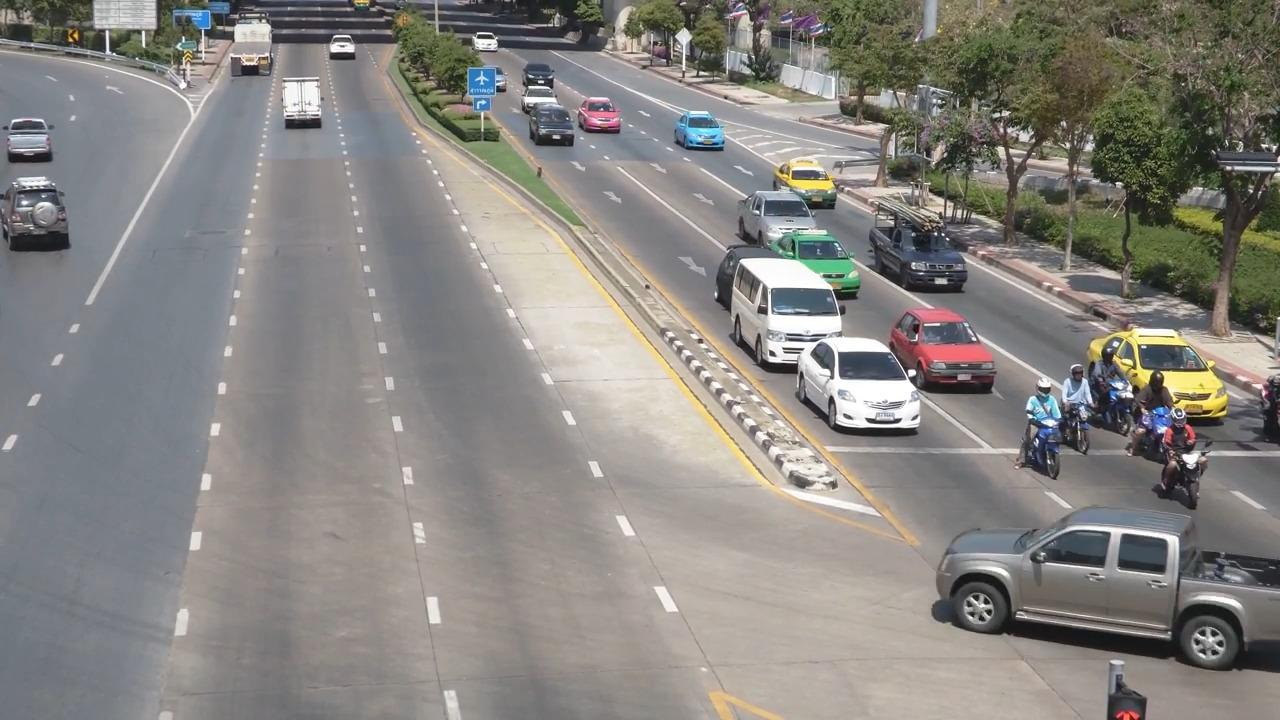CAR: (925, 495, 1280, 703), (801, 332, 939, 439), (1100, 310, 1227, 421), (734, 252, 848, 372), (860, 193, 970, 296), (885, 290, 996, 389), (770, 221, 871, 298), (0, 177, 81, 262), (733, 184, 822, 256), (273, 65, 336, 142), (764, 151, 843, 206), (0, 109, 58, 174), (524, 96, 581, 153), (670, 103, 731, 153), (320, 27, 376, 72), (573, 96, 628, 141), (521, 58, 563, 90), (469, 25, 502, 53)
HGV_BUS: (220, 9, 285, 85)
MOTOR: (1147, 406, 1221, 508), (1011, 381, 1072, 467), (1083, 343, 1131, 433), (1051, 359, 1097, 449)
